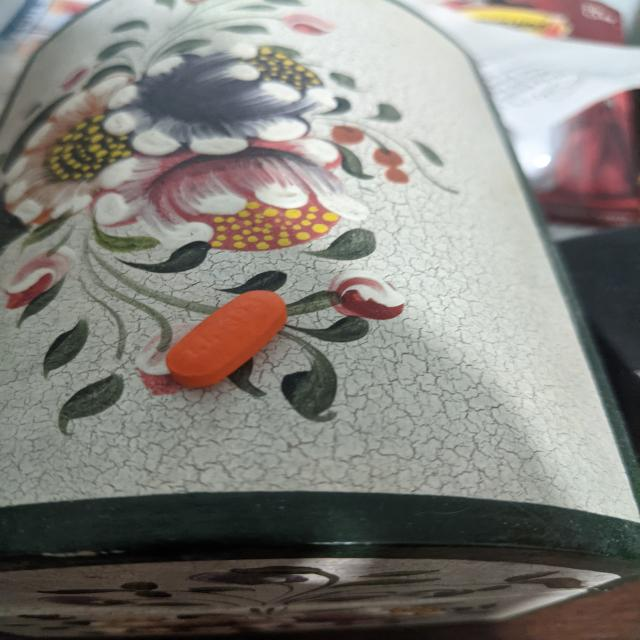non-organic waste: (164, 288, 290, 389)
